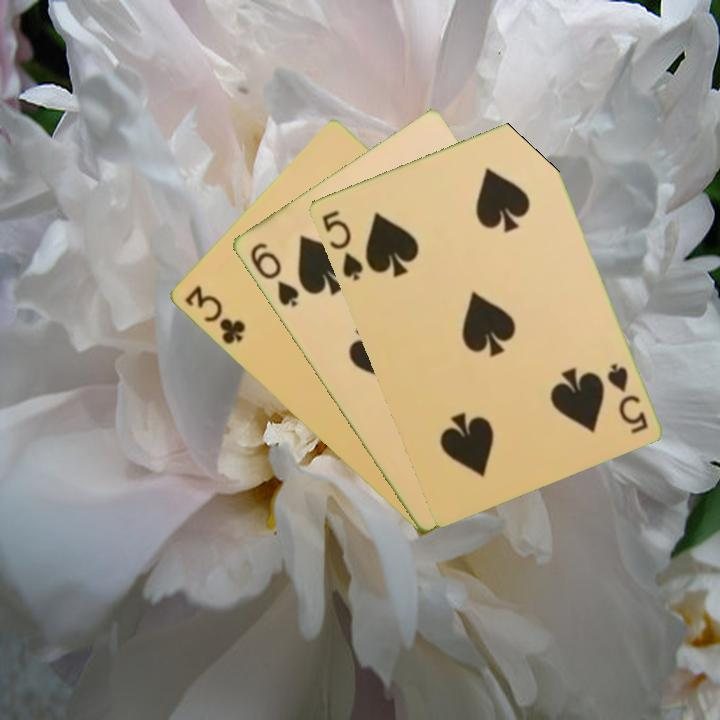3c: (180, 281, 248, 348)
5s: (317, 206, 366, 284), (603, 359, 651, 437)
6s: (246, 238, 302, 310)
